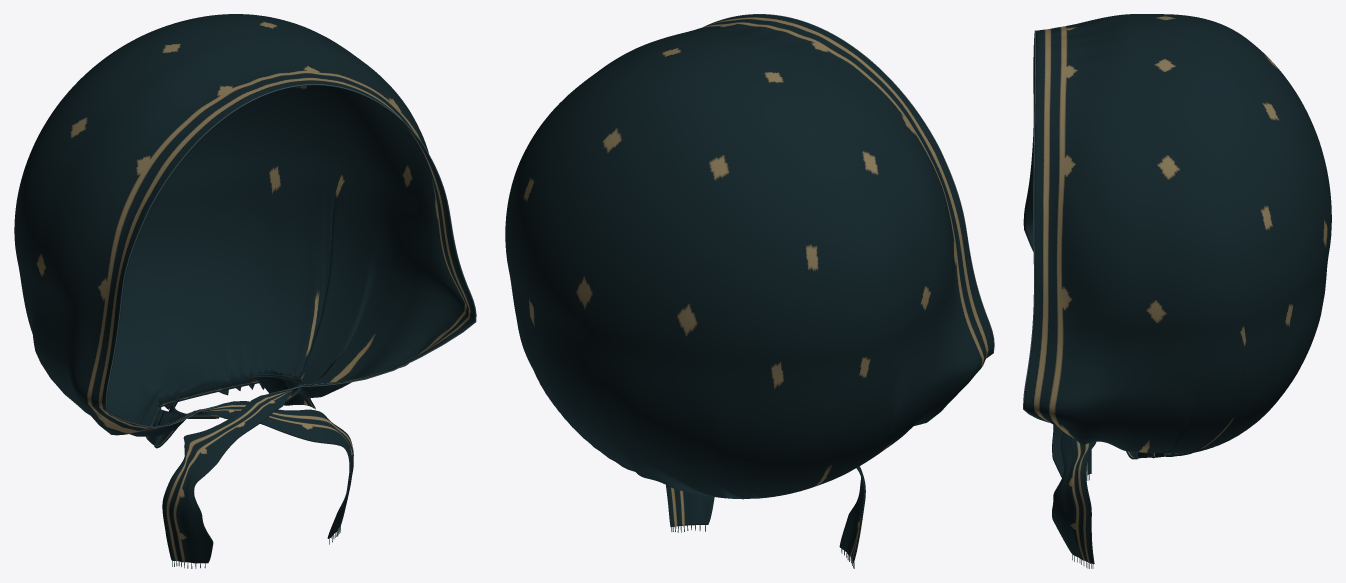
File: Feminine-twin-braids-strappy-pashmina250-headgear.glb
3 views of the same model, side by side, from view 1: azimuth 30°, elevation 25°; view 2: azimuth 150°, elevation 25°; view 3: azimuth 270°, elevation 25° (orthographic). The views are drawn at different scales.
Visible parts, largest first — view 1: 226 headgear / Headwear / continuous woven pashmina239, 226 headgear / Headwear / face edge239; view 2: 226 headgear / Headwear / continuous woven pashmina239, 226 headgear / Headwear / face edge239; view 3: 226 headgear / Headwear / continuous woven pashmina239, 226 headgear / Headwear / face edge239.
Part boxes in pixels (left/top/right/bottom): 226 headgear / Headwear / continuous woven pashmina239: left=14, top=14, right=475, bottom=563; 226 headgear / Headwear / face edge239: left=105, top=84, right=476, bottom=427; 226 headgear / Headwear / continuous woven pashmina239: left=505, top=14, right=993, bottom=562; 226 headgear / Headwear / face edge239: left=704, top=14, right=994, bottom=357; 226 headgear / Headwear / continuous woven pashmina239: left=1023, top=14, right=1331, bottom=564; 226 headgear / Headwear / face edge239: left=1023, top=30, right=1048, bottom=422.
Size of the model in its own units: 1.11 by 1.38 by 0.778.
Materials: 3 (1 with a texture image).
